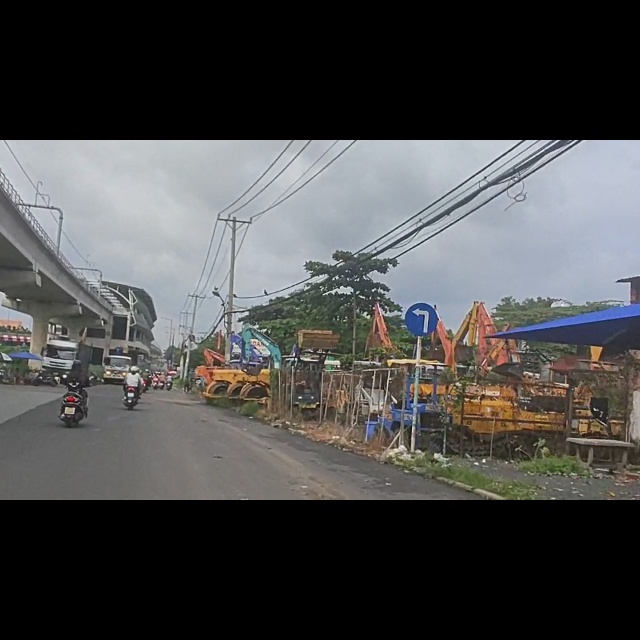bien_chi_dan: (405, 287, 437, 352)
